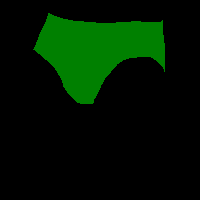mutande: (33, 12, 165, 104)
